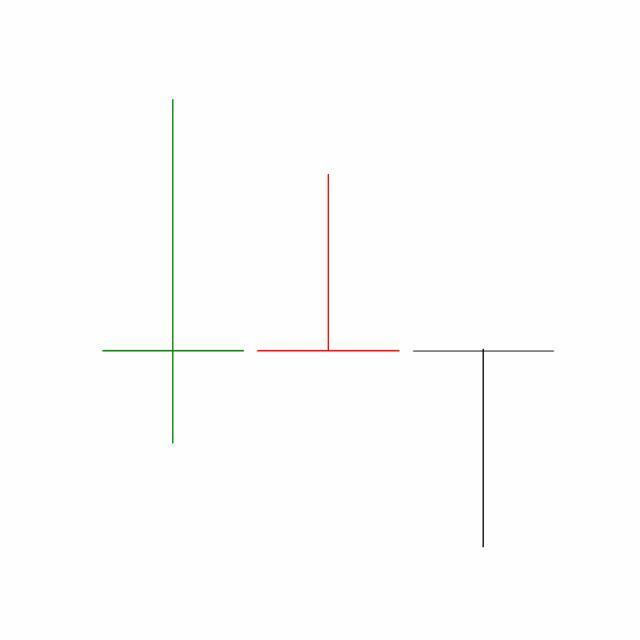Dragonfly Doji: (406, 347, 562, 551)
